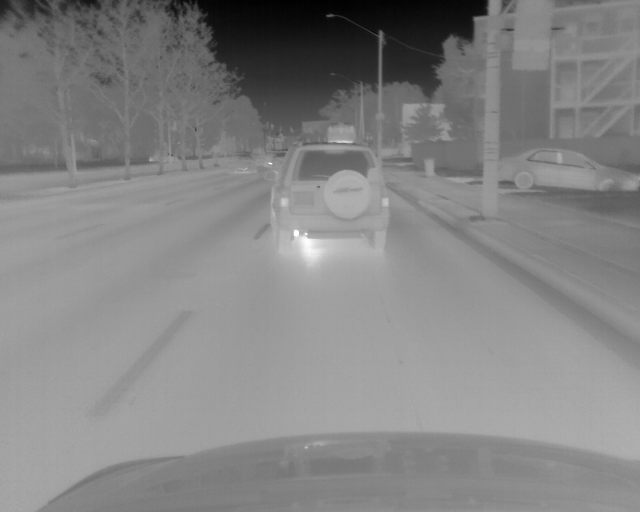car: (272, 143, 389, 253), (494, 146, 640, 199), (226, 150, 258, 173), (261, 150, 285, 174)
